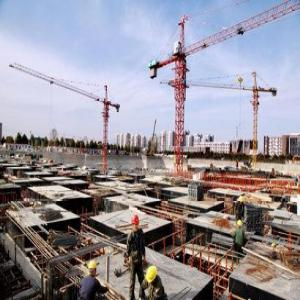red: (131, 214, 140, 233)
yellow: (146, 264, 159, 285), (89, 259, 98, 278)
